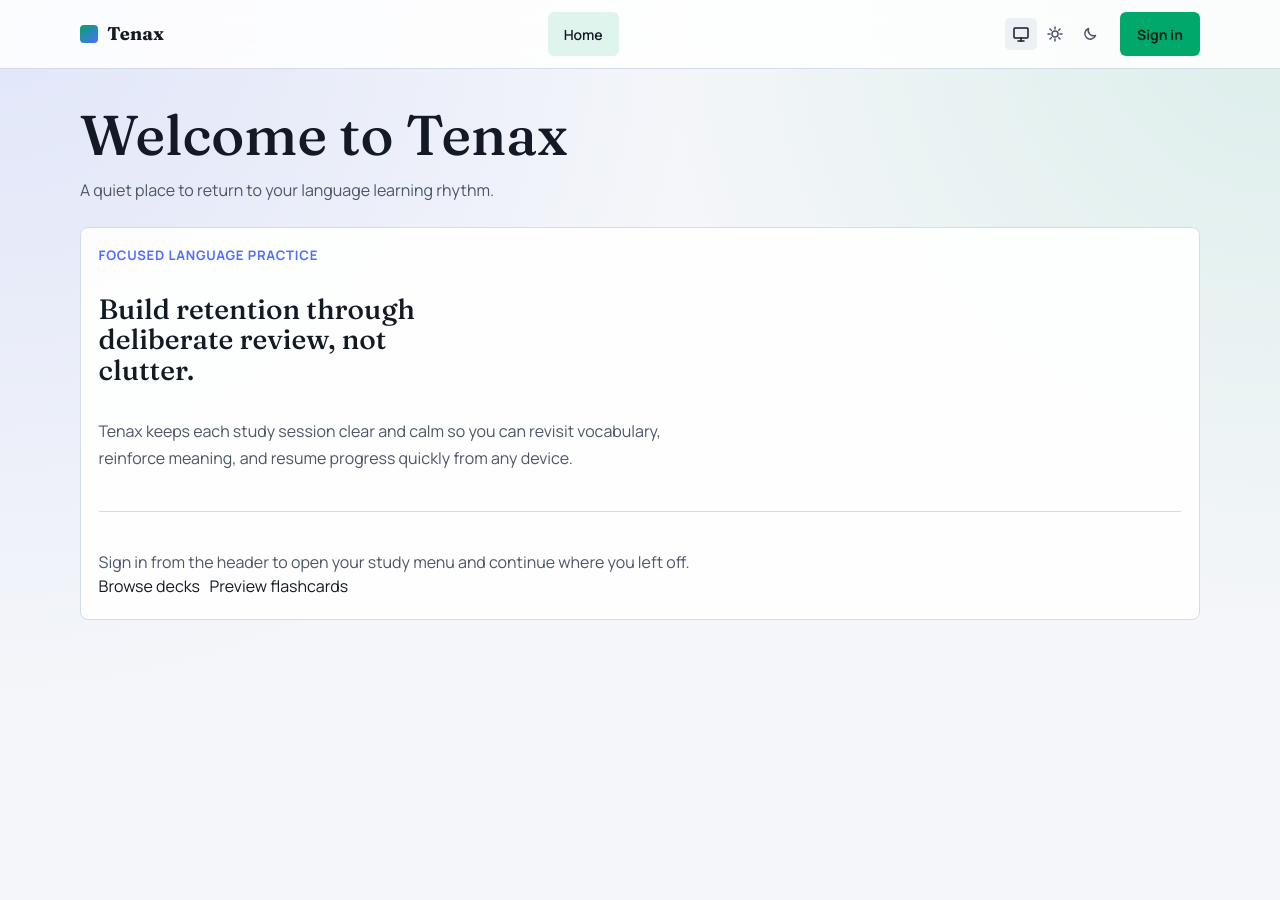
Test case: home route auth behavior › shows the approved missing-config error when runtime auth config is unavailable
The width and height of the screenshot is (1280, 900).
Click the button "Sign in" at point(1160, 34), box [1120,12,1200,56]
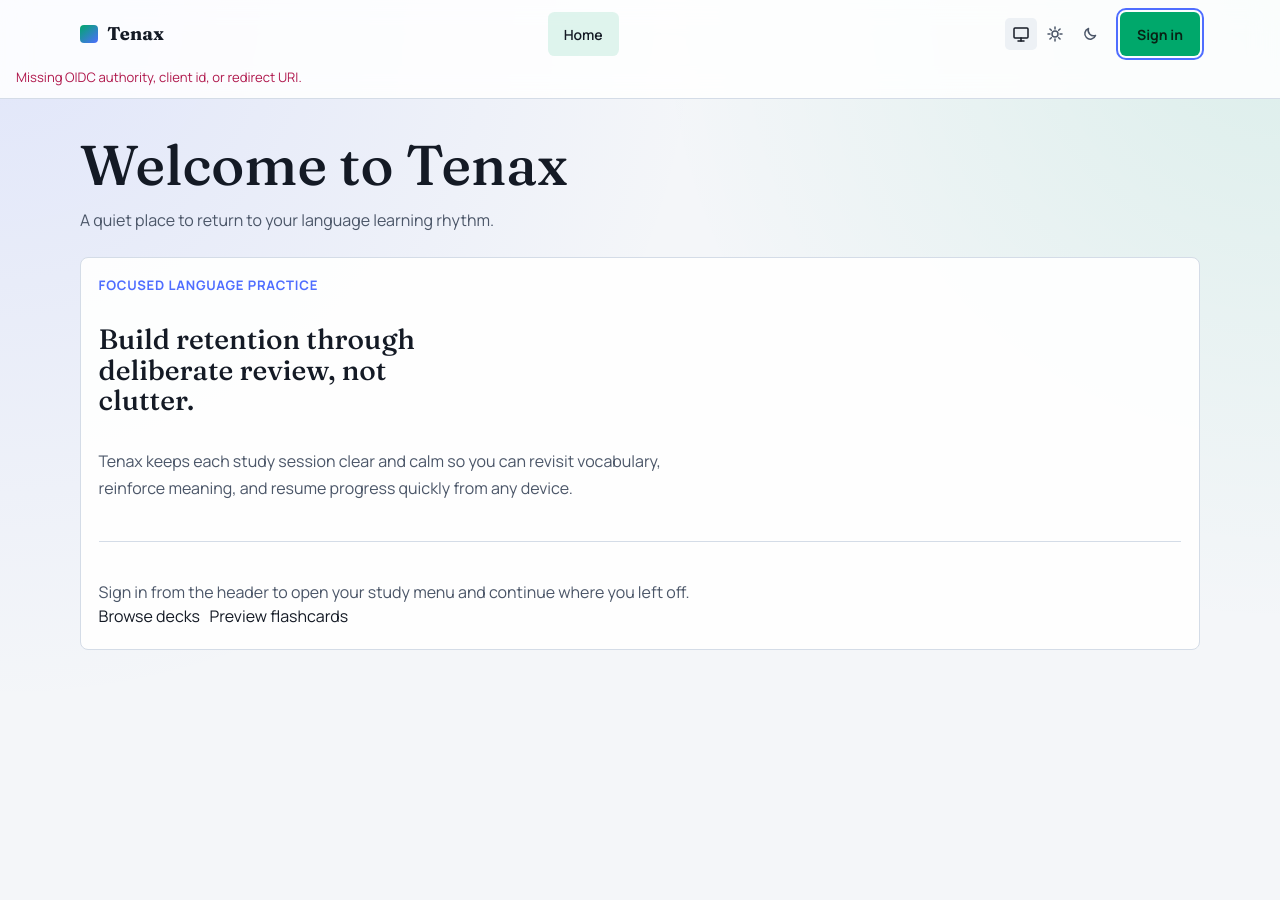
Expected: the message reads "Missing OIDC authority, client id, or redirect URI.", [16,68,302,86]
